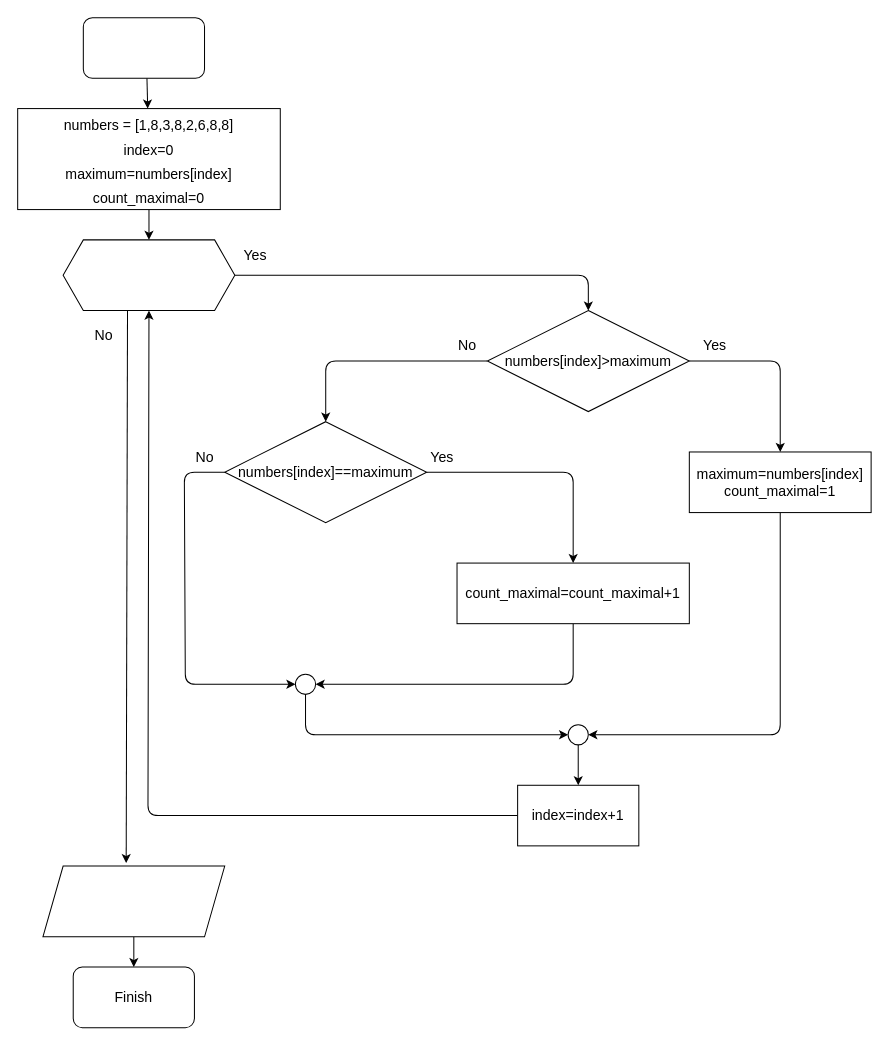
Image size: 889x1045. Some labels were removed from this diagram. Each missing label, with the centre of its shape:
"index<numbers.length" belongs at pixel 148 275.
"print(count_maximal)" belongs at pixel 133 901.
"Start" belongs at pixel 143 47.
